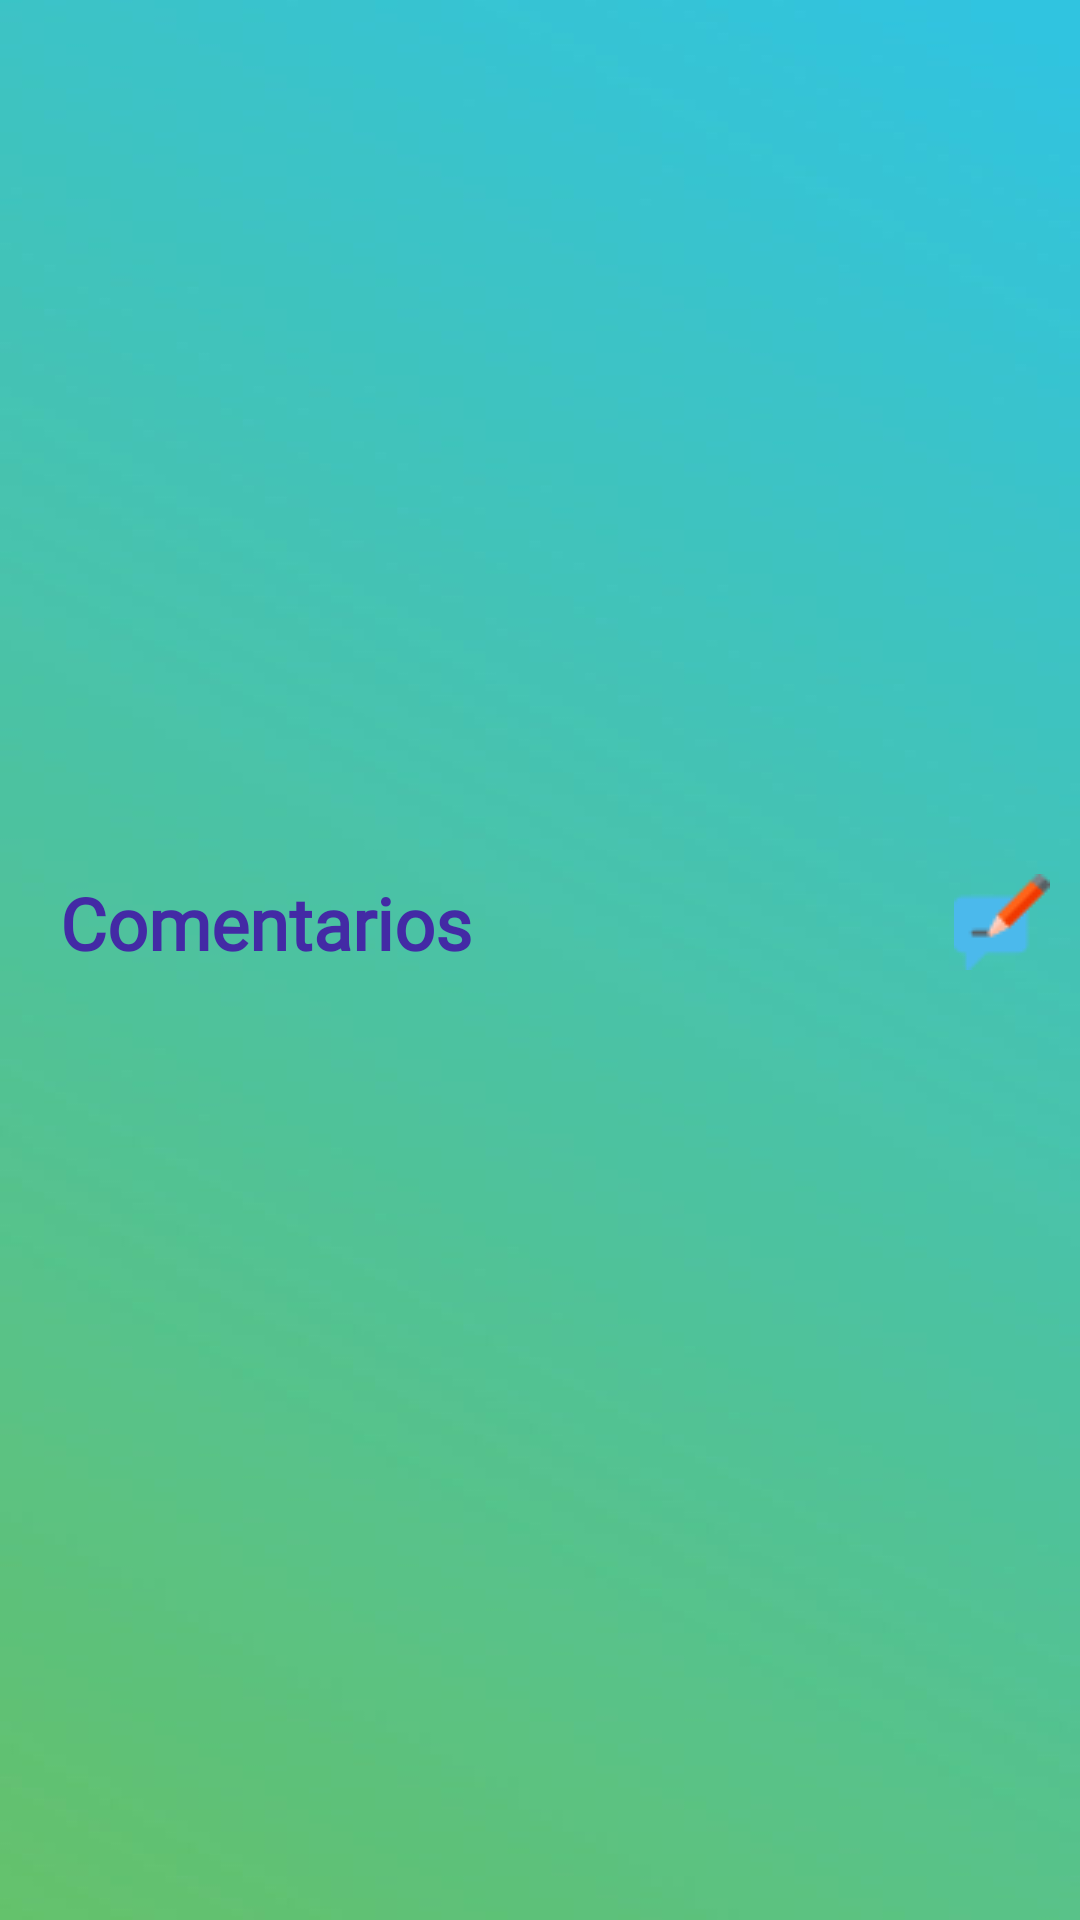

Where to tap for icons on this 1080 × 1920 app screen, as (x,y):
escritura: (1002,922)
